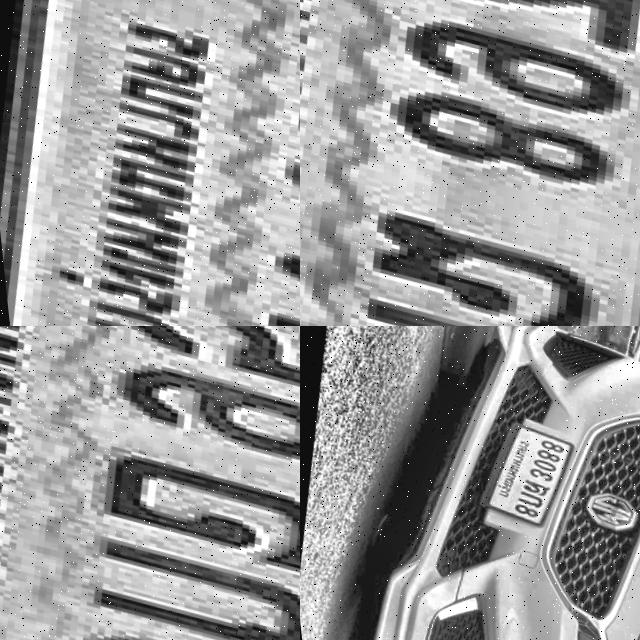license-plate: (300, 0, 640, 326), (0, 0, 300, 326), (0, 326, 300, 640), (472, 412, 581, 533)
